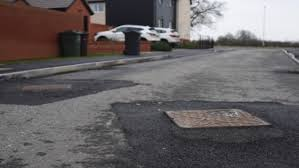Manhole-Closed: (163, 100, 273, 138)
car: (91, 20, 160, 46), (157, 25, 184, 46)
